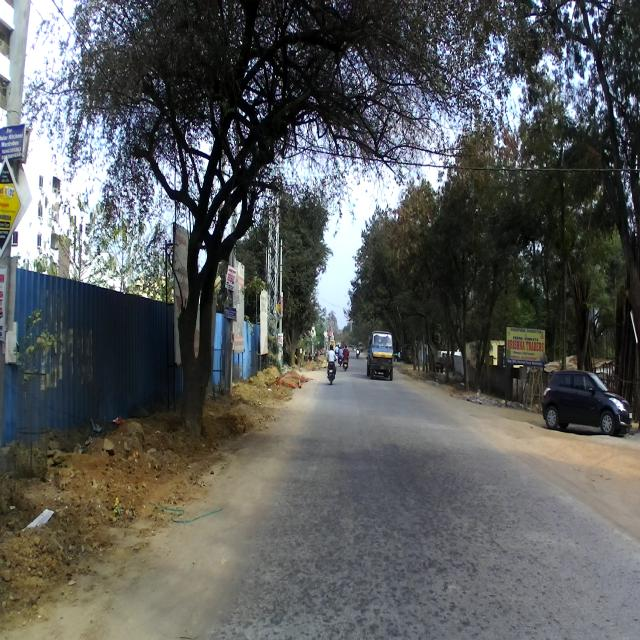car ahead at: (540, 360, 633, 444)
tree ahead at: (175, 220, 219, 432)
